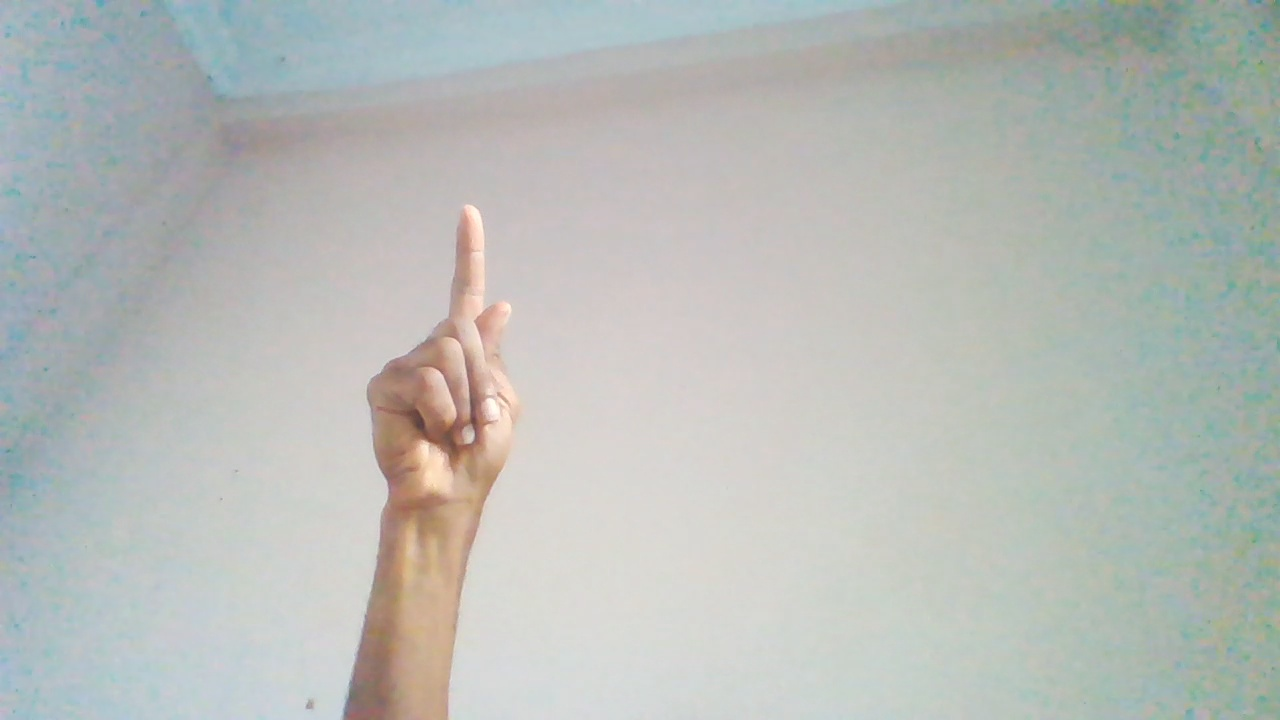ne: (364, 206, 517, 550)
